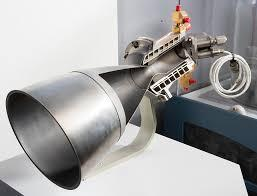thruster: (5, 64, 152, 189)
